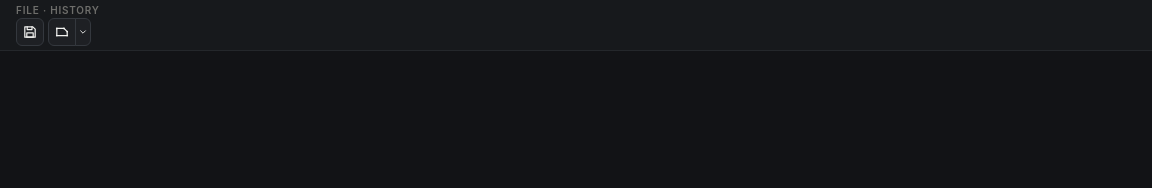
Toolbar icons and split buttons › a family is one split button: the main part runs the first enabled member until another is picked, then remembers it
The width and height of the screenshot is (1152, 188).
Later steps or results of the test are not shown.
Expected: the button "Copper zone" is not shown
Click the button named "Board outline": click(62, 32) [48, 18, 76, 46]
Click the button named "Board regions: choose": click(83, 32) [75, 18, 91, 46]
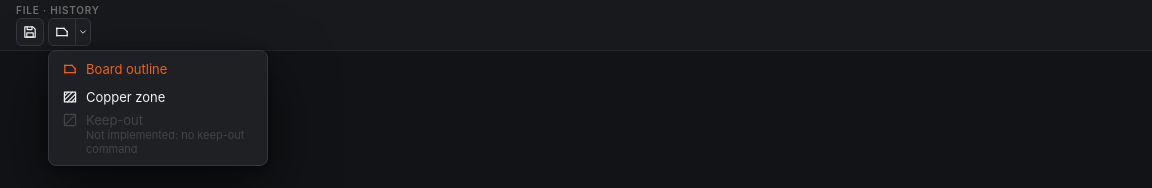
Expected: the menu item "Keep-out Not implemented: no keep-out command" is disabled, [53, 111, 263, 161]
